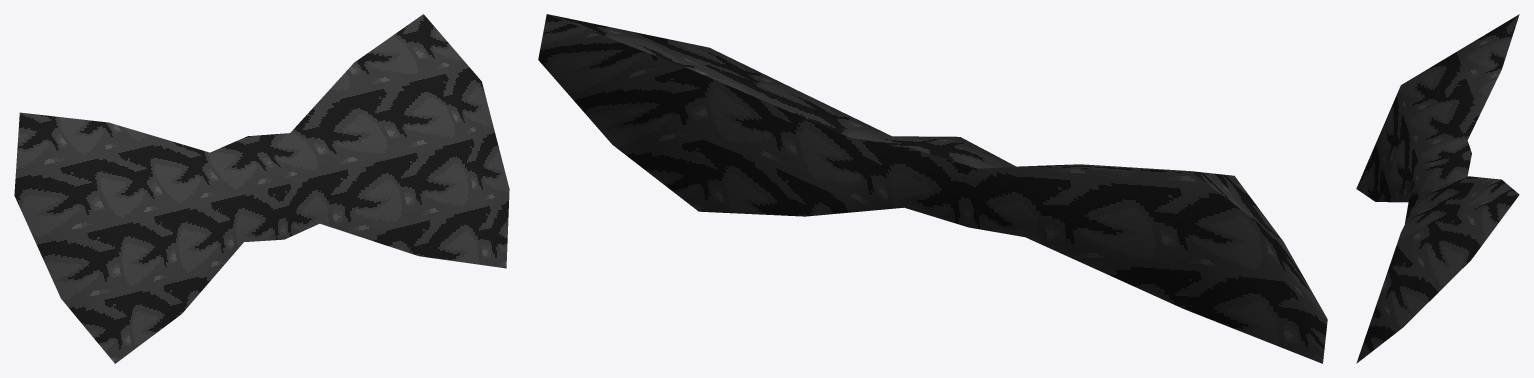
The model's file is code_head96.gltf.
3 renders of one model, left to right at view 1: azimuth 30°, elevation 25°; view 2: azimuth 150°, elevation 25°; view 3: azimuth 270°, elevation 25°, orthographic. The views are drawn at different scales.
Visible parts, largest first — view 1: code_head96; view 2: code_head96; view 3: code_head96.
Boxes of the visible parts, box(x1,y1,x2,y2) form: code_head96: box(14, 14, 509, 363); code_head96: box(538, 14, 1327, 363); code_head96: box(1356, 14, 1519, 363).
Bounding box in the file's own units: 0.7495 × 0.2876 × 0.2476.
Materials: 1 (1 with a texture image).
